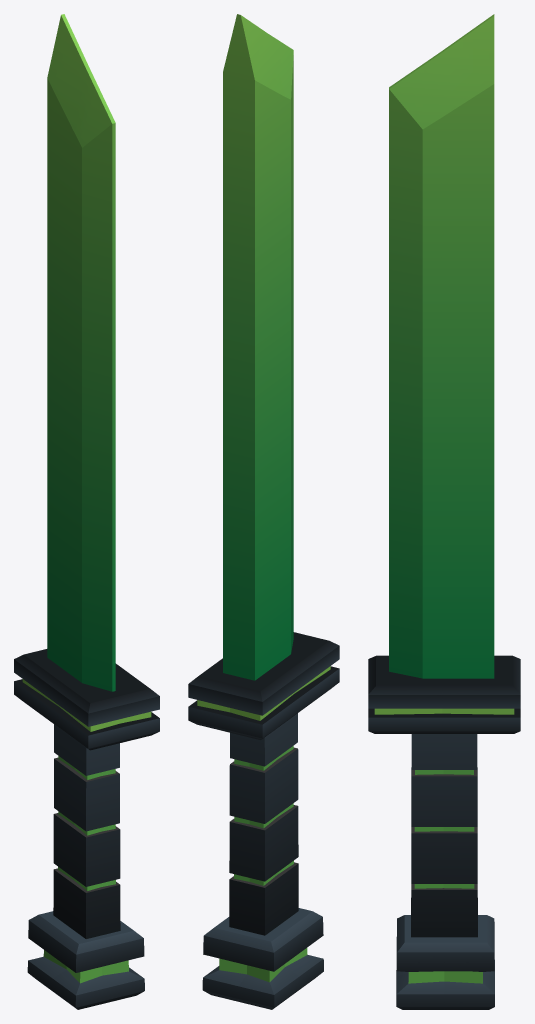
Rendered from Sword_Green.fbx.
3 renders of one model, left to right at view 1: azimuth 30°, elevation 25°; view 2: azimuth 150°, elevation 25°; view 3: azimuth 270°, elevation 25°, orthographic. The views are drawn at different scales.
Visible parts, largest first — view 1: Merged_PM3D_Cube3D2; view 2: Merged_PM3D_Cube3D2; view 3: Merged_PM3D_Cube3D2.
Part boxes in pixels (x1=…): Merged_PM3D_Cube3D2: x1=14, y1=14, x2=159, y2=1009; Merged_PM3D_Cube3D2: x1=188, y1=14, x2=339, y2=1009; Merged_PM3D_Cube3D2: x1=368, y1=14, x2=520, y2=1009.
Size of the model in its own units: 0.0994 by 1.27 by 0.1789.
